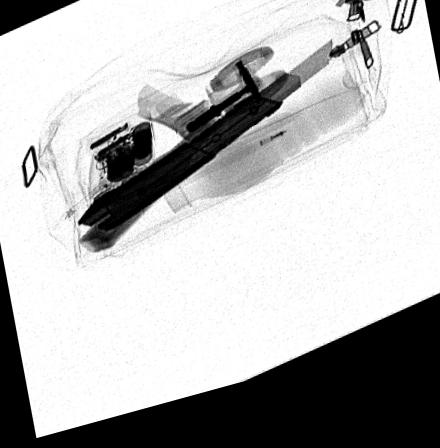Knife: (77, 54, 334, 238)
